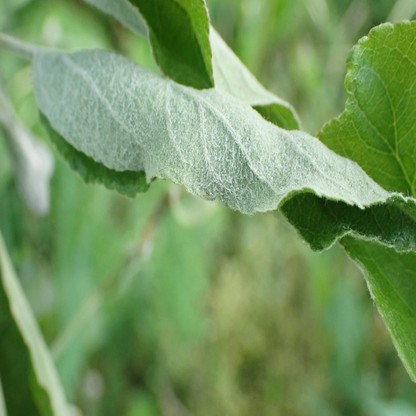powdery_mildew: (31, 50, 416, 254)
